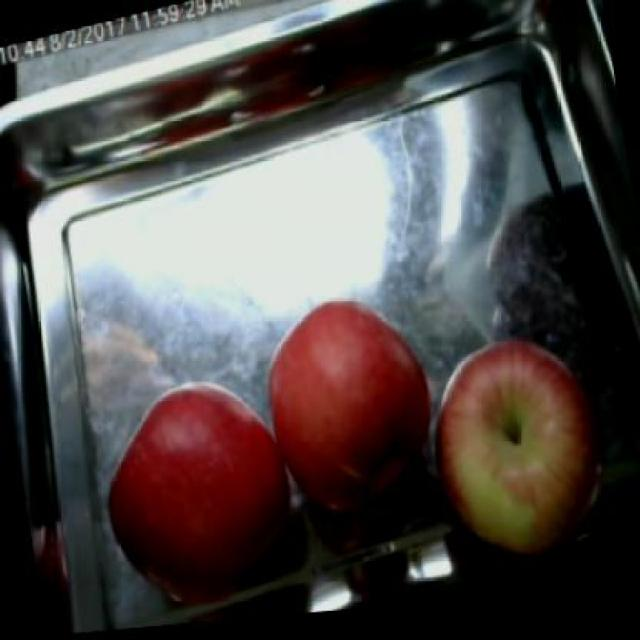Fresh Apple: (430, 348, 602, 557), (258, 305, 424, 509), (114, 384, 289, 574)
